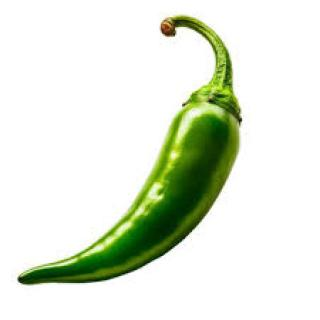Cabai Hijau: (17, 88, 247, 291)
